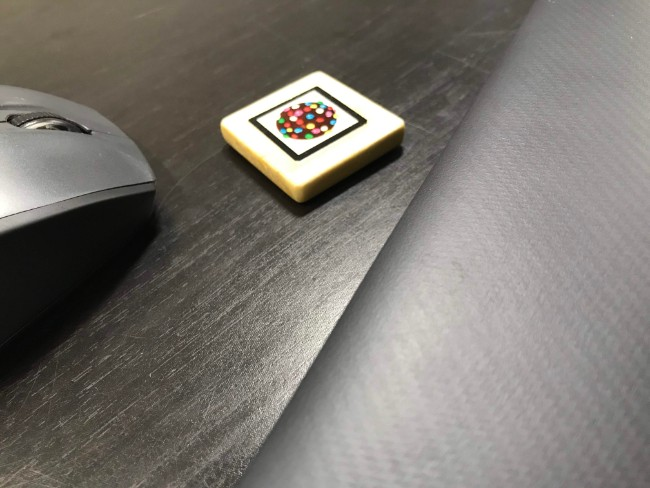cookie: (239, 82, 376, 171)
